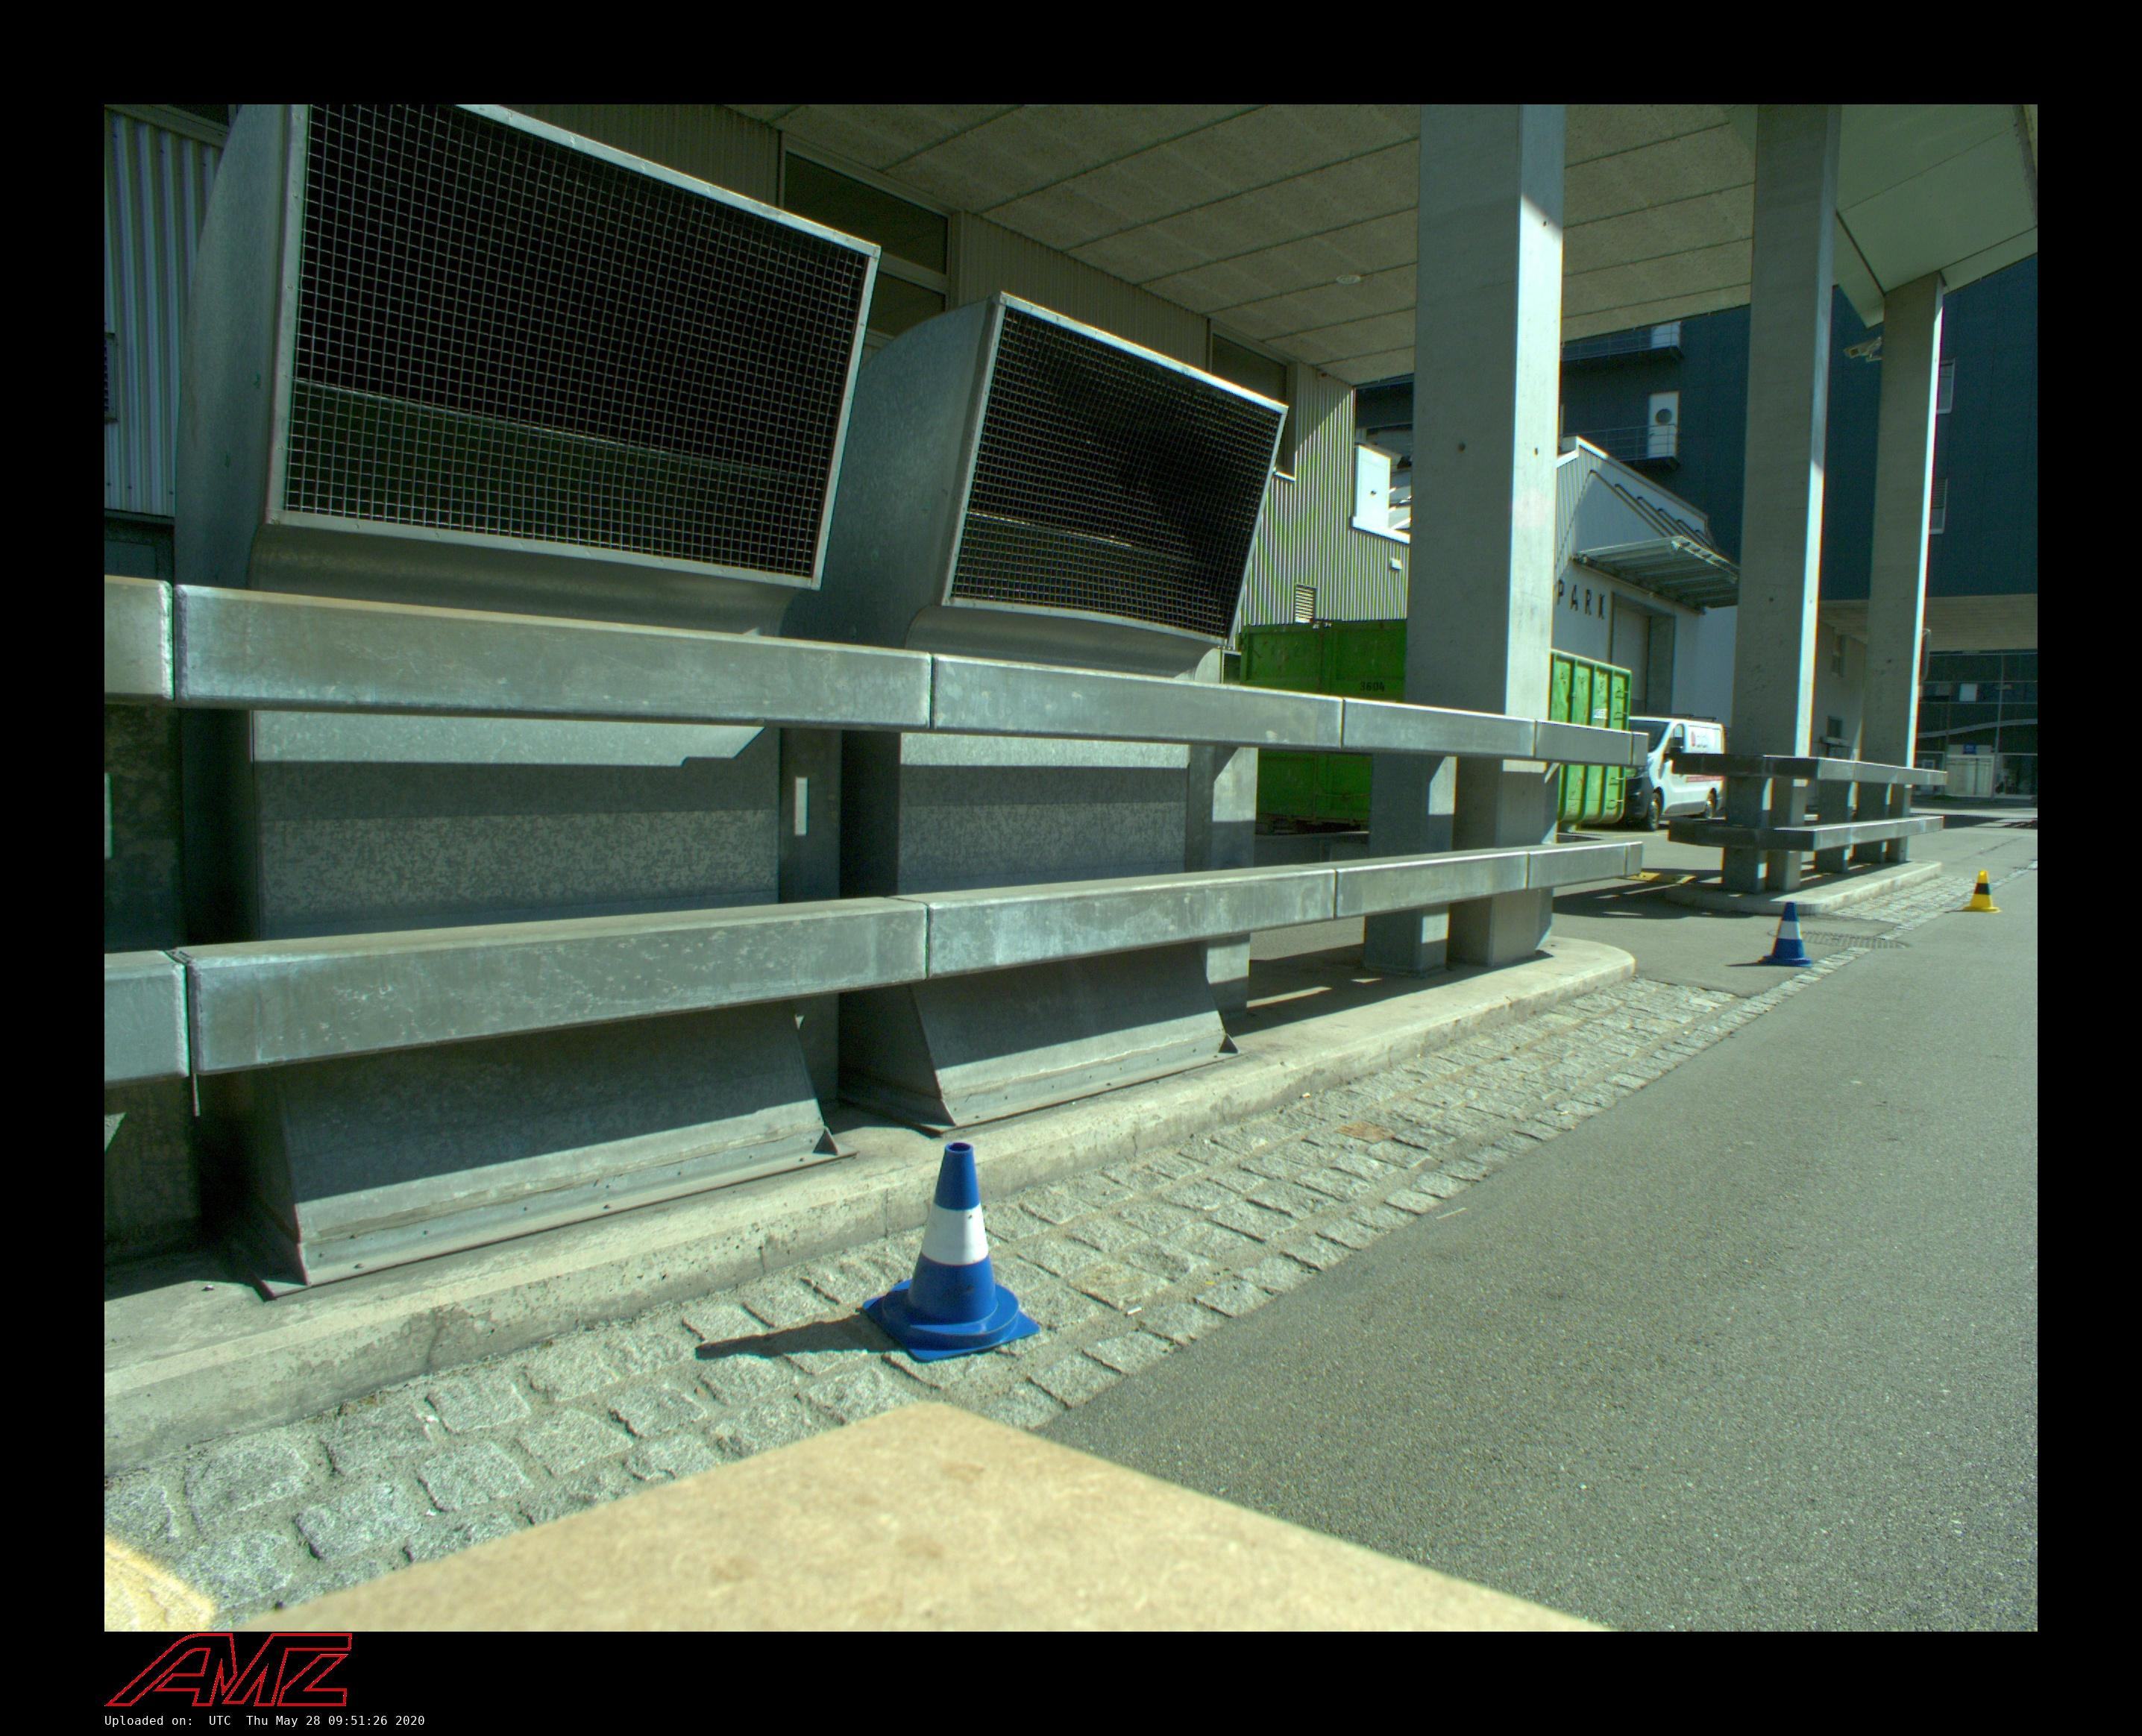blue_cone: (863, 1141, 1042, 1362), (1759, 902, 1812, 967)
yellow_cone: (1963, 870, 2000, 912)
